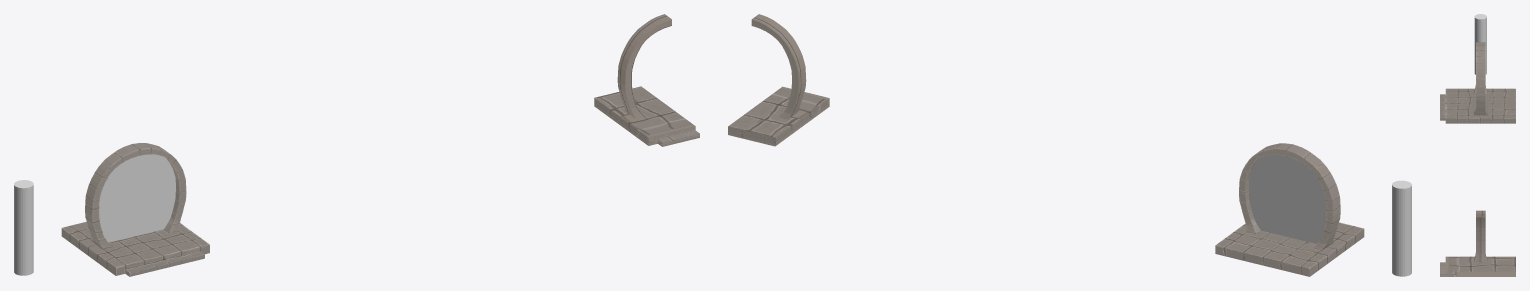
The model's file is portal.glb.
The picture shows the model from 3 angles, left to right: view 1: azimuth 30°, elevation 25°; view 2: azimuth 150°, elevation 25°; view 3: azimuth 270°, elevation 25°; orthographic projection. The views are drawn at different scales.
Visible parts, largest first — view 1: PortalPlane, PortalMirror, Portal, Ring, Person ref; view 2: PortalPlane, PortalMirror, Portal, Ring, Person ref; view 3: Portal, PortalMirror, Ring, Person ref.
Part boxes in pixels (x1,y1,x2,y2): PortalPlane: (99,154,175,242); PortalMirror: (594,14,699,146); Portal: (61,221,209,276); Ring: (85,143,186,248); Person ref: (14,180,33,275); PortalPlane: (1249,155,1326,243); PortalMirror: (728,14,829,146); Portal: (1215,222,1364,276); Ring: (1239,143,1340,249); Person ref: (1392,180,1411,276); Portal: (1440,88,1515,123); PortalMirror: (1440,210,1515,276); Ring: (1474,42,1487,115); Person ref: (1474,14,1486,74).
Bounding box in the file's own units: 13.88 × 1.99 × 2.16.
1 material, 1 textured.
